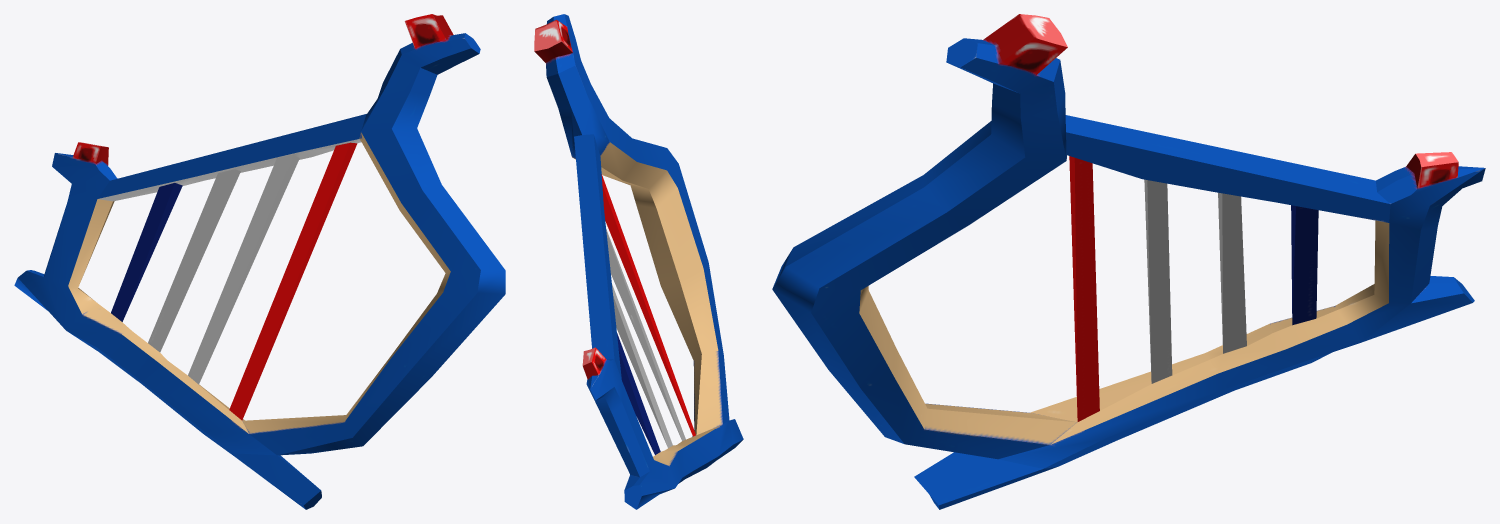
Rendered from Arpa2_000010.obj.
3 views of the same model, side by side, from view 1: azimuth 30°, elevation 25°; view 2: azimuth 150°, elevation 25°; view 3: azimuth 270°, elevation 25° (orthographic). The views are drawn at different scales.
Visible parts, largest first — view 1: a2_Arpa_1:pCube7; view 2: a2_Arpa_1:pCube7; view 3: a2_Arpa_1:pCube7.
Boxes of the visible parts, x1,y1,x2,y2 form: a2_Arpa_1:pCube7: (14,14,505,509); a2_Arpa_1:pCube7: (534,14,743,509); a2_Arpa_1:pCube7: (772,14,1485,509).
Size of the model in its own units: 5.32 by 7.92 by 8.62.
